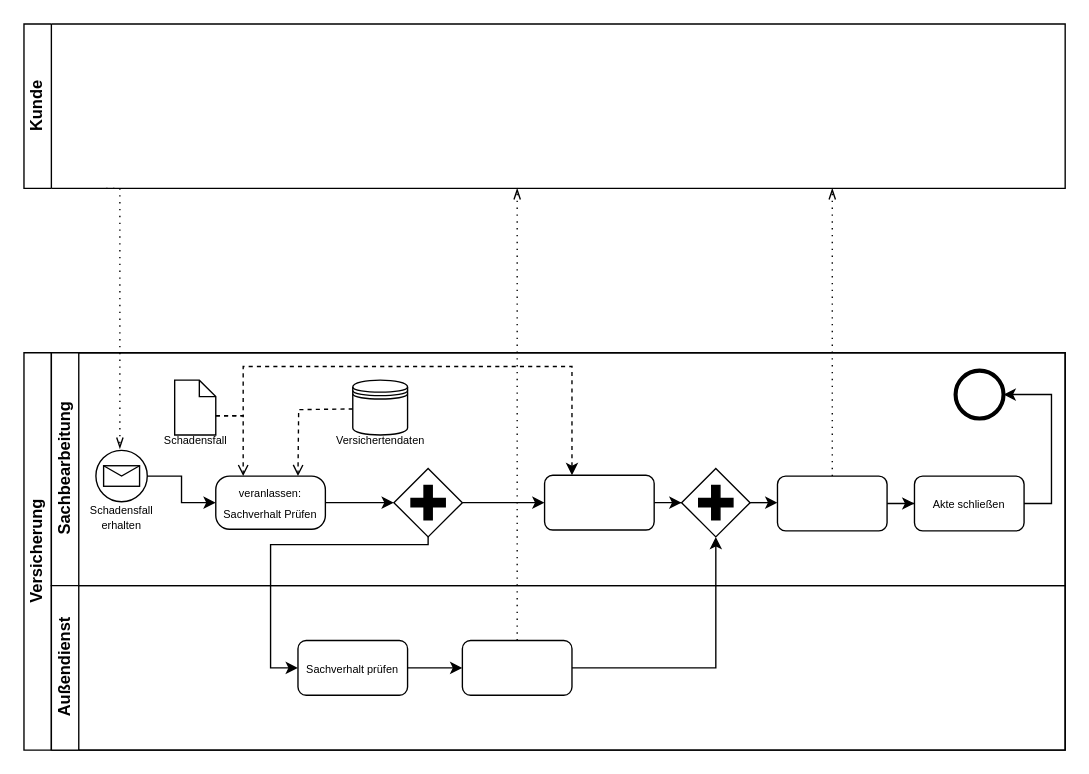
Some shapes in this 1089 by 774 pixel diagram are drawn without their labels. Each missing label, with the box of its shape:
Ersthilfe bei der Schadensbeseitigung: (461, 639, 572, 695)
Kundenakte anlegen: (543, 474, 654, 530)
Schadensregulierung: (776, 475, 887, 531)
